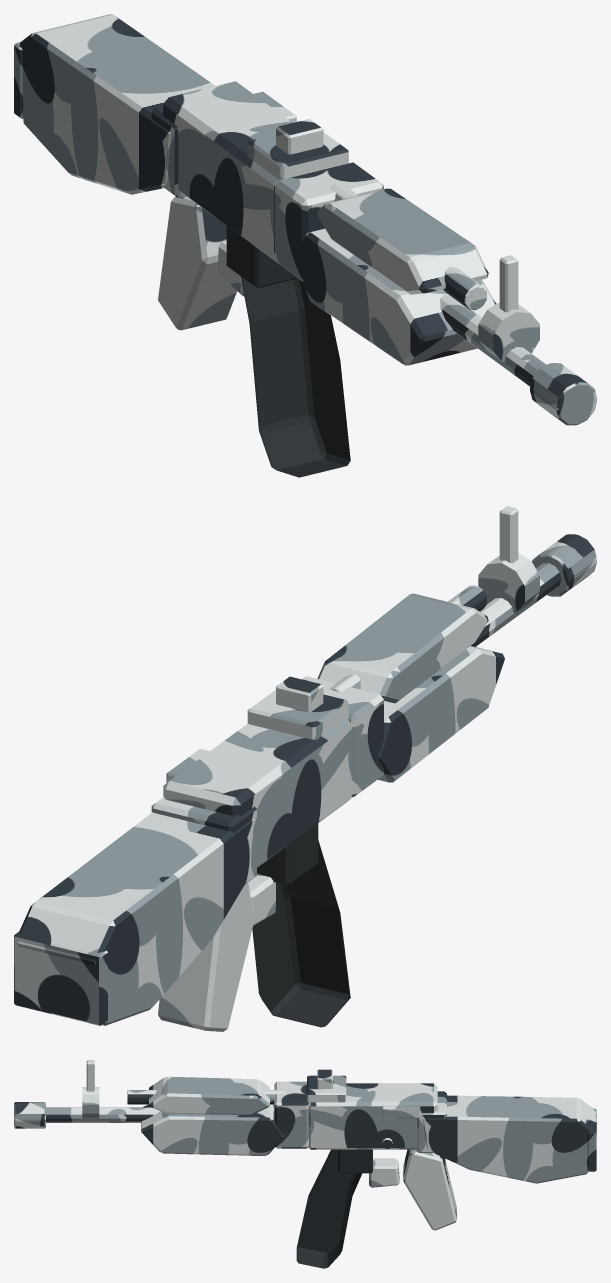
File: AK47_SnowCamo.glb
The picture shows the model from 3 angles, top to bottom: view 1: azimuth 30°, elevation 25°; view 2: azimuth 150°, elevation 25°; view 3: azimuth 270°, elevation 25°; orthographic projection. The views are drawn at different scales.
Visible parts, largest first — view 1: FTF_Weapon_AK47_SnowCamo_Mesh; view 2: FTF_Weapon_AK47_SnowCamo_Mesh; view 3: FTF_Weapon_AK47_SnowCamo_Mesh.
Boxes of the visible parts, bbox=[...] form: FTF_Weapon_AK47_SnowCamo_Mesh: bbox=[14, 14, 596, 477]; FTF_Weapon_AK47_SnowCamo_Mesh: bbox=[14, 506, 596, 1031]; FTF_Weapon_AK47_SnowCamo_Mesh: bbox=[14, 1060, 596, 1268].
Bounding box in the file's own units: 0.198 × 0.7282 × 1.92.
Materials: 2 (1 with a texture image).
